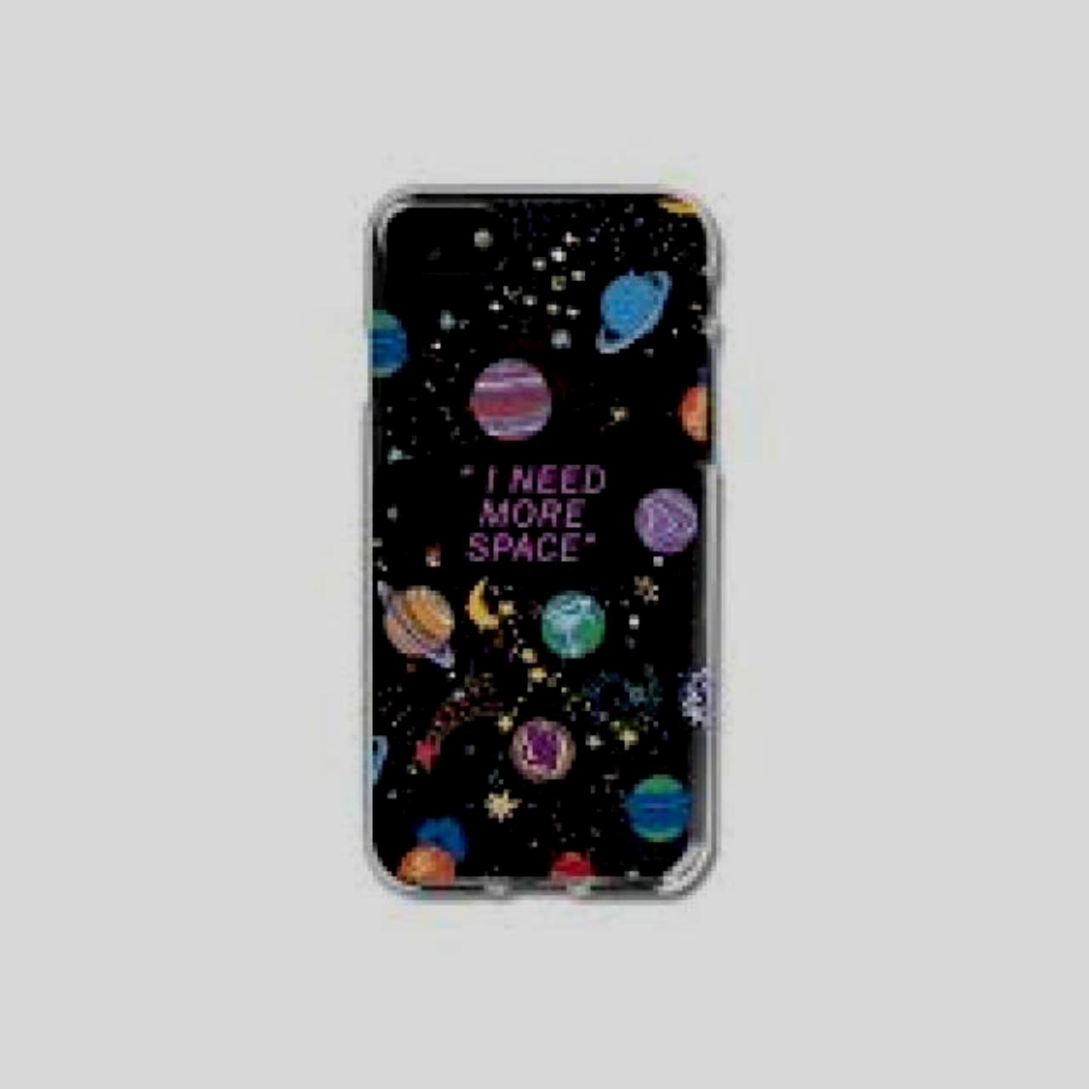phone: (349, 167, 735, 917)
